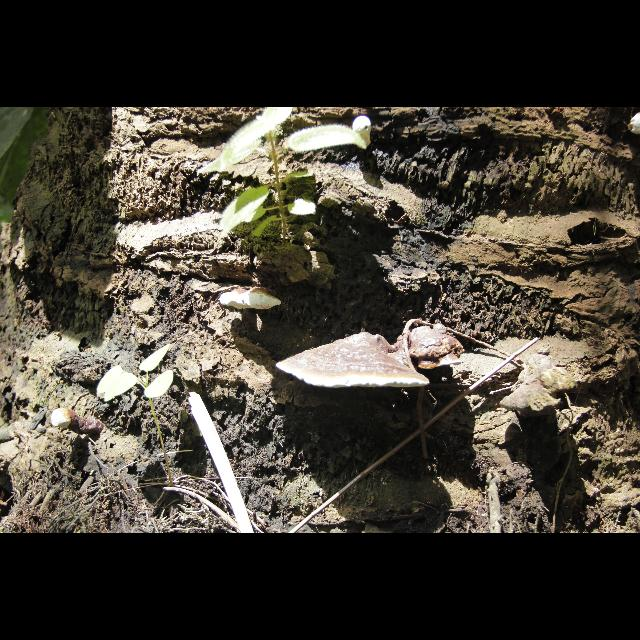ganoderma: (276, 332, 432, 390), (406, 324, 466, 371), (221, 288, 284, 312)
primordium: (51, 408, 79, 432), (353, 117, 373, 147)
